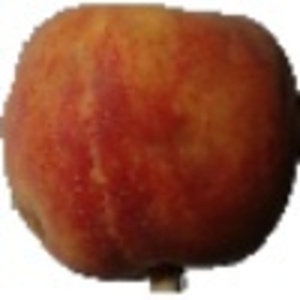pêssego: (1, 2, 300, 296)
